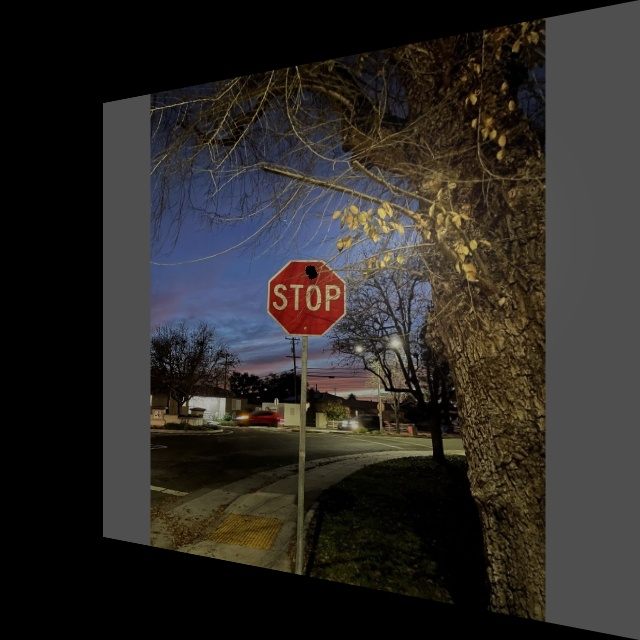Stop: (267, 258, 346, 338)
